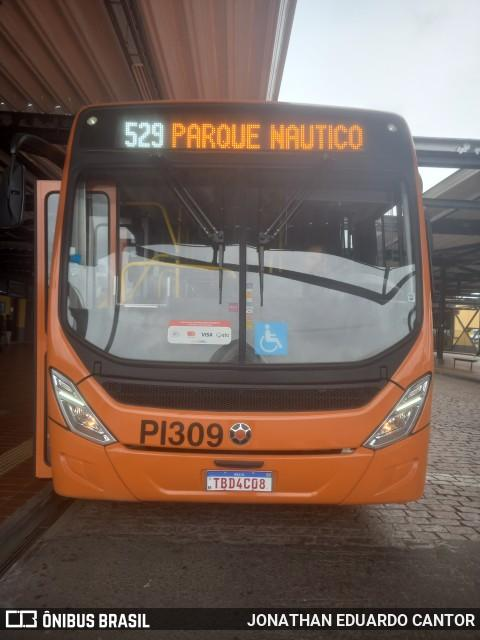PARQUE NAUTICO: (166, 116, 368, 155)
